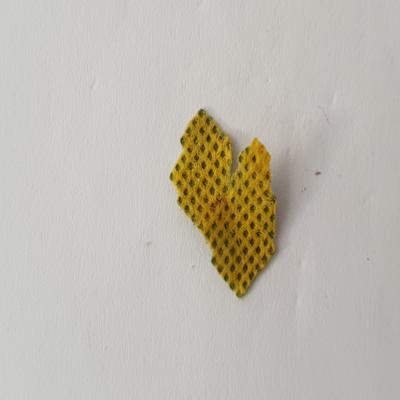plastic: (168, 101, 282, 301)
